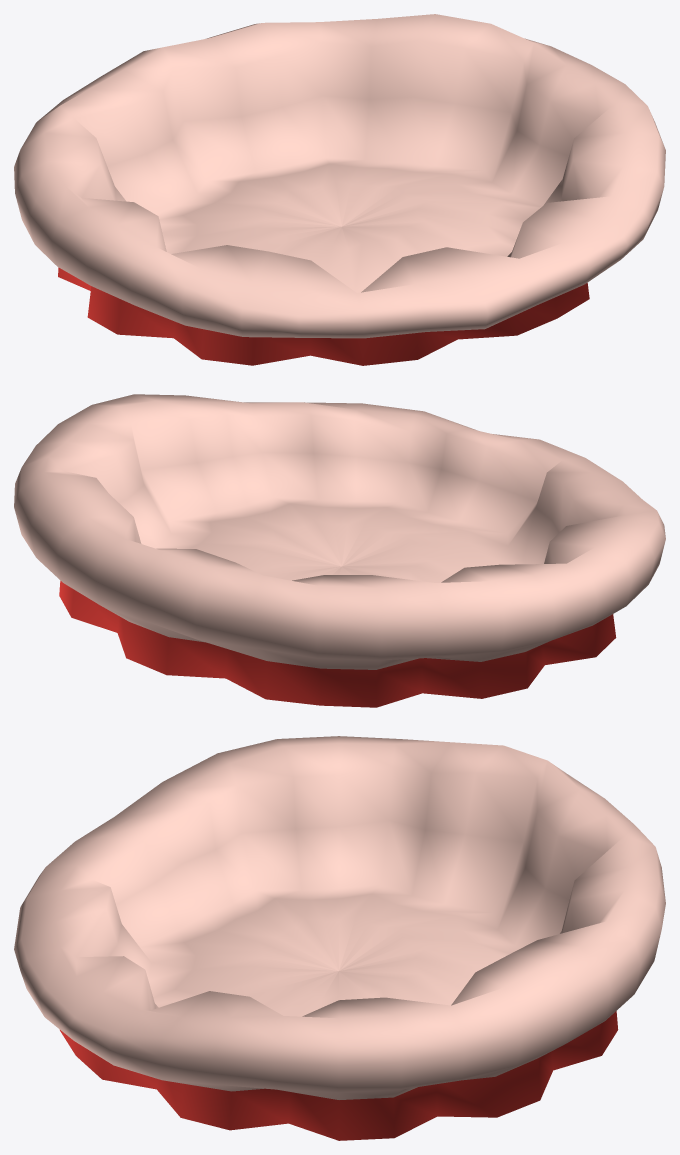
The model's file is catbed.fbx.
3 renders of one model, top to bottom at view 1: azimuth 30°, elevation 25°; view 2: azimuth 150°, elevation 25°; view 3: azimuth 270°, elevation 25°, orthographic. The views are drawn at different scales.
Visible parts, largest first — view 1: Circle; view 2: Circle; view 3: Circle.
Boxes of the visible parts, x1,y1,x2,y2 form: Circle: [14, 14, 665, 365]; Circle: [14, 394, 665, 707]; Circle: [14, 736, 665, 1140].
Size of the model in its own units: 7.81 by 1.63 by 6.84.
